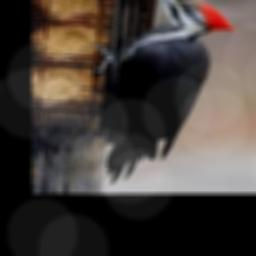Woodpecker: (93, 0, 238, 183)
